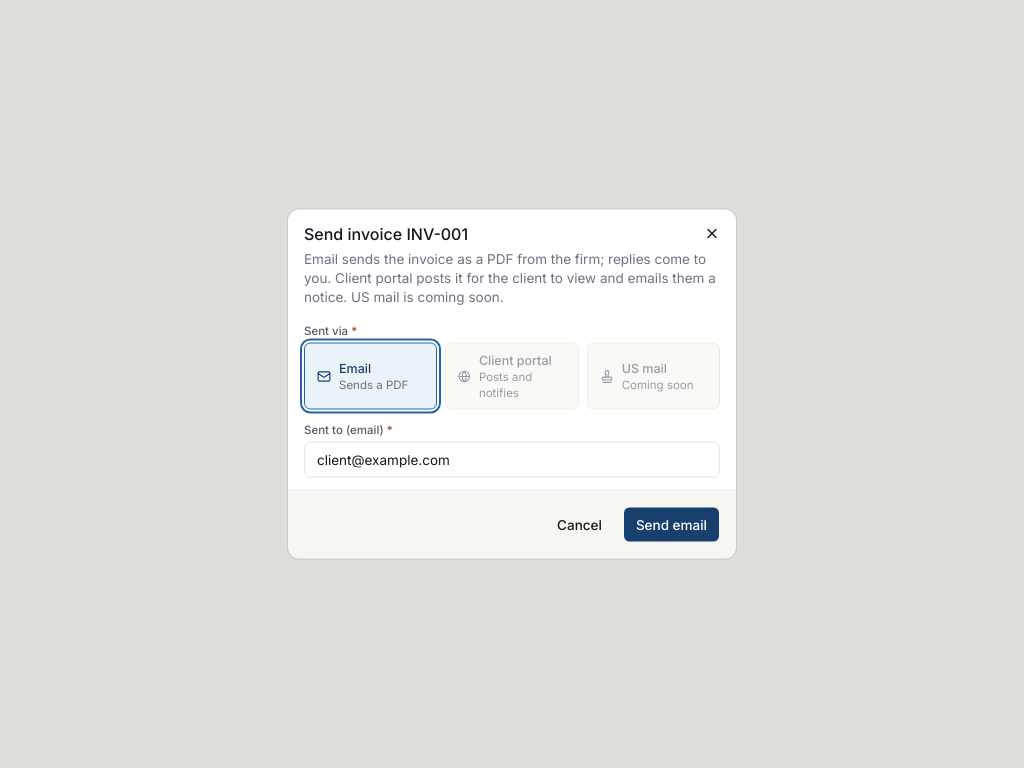
Test: SendInvoiceDialog › a server error is shown and the edited recipient survives
Type "other@example.com" into the field labelled "Sent to (email) *" at (512, 460), box 304,442 -> 720,478
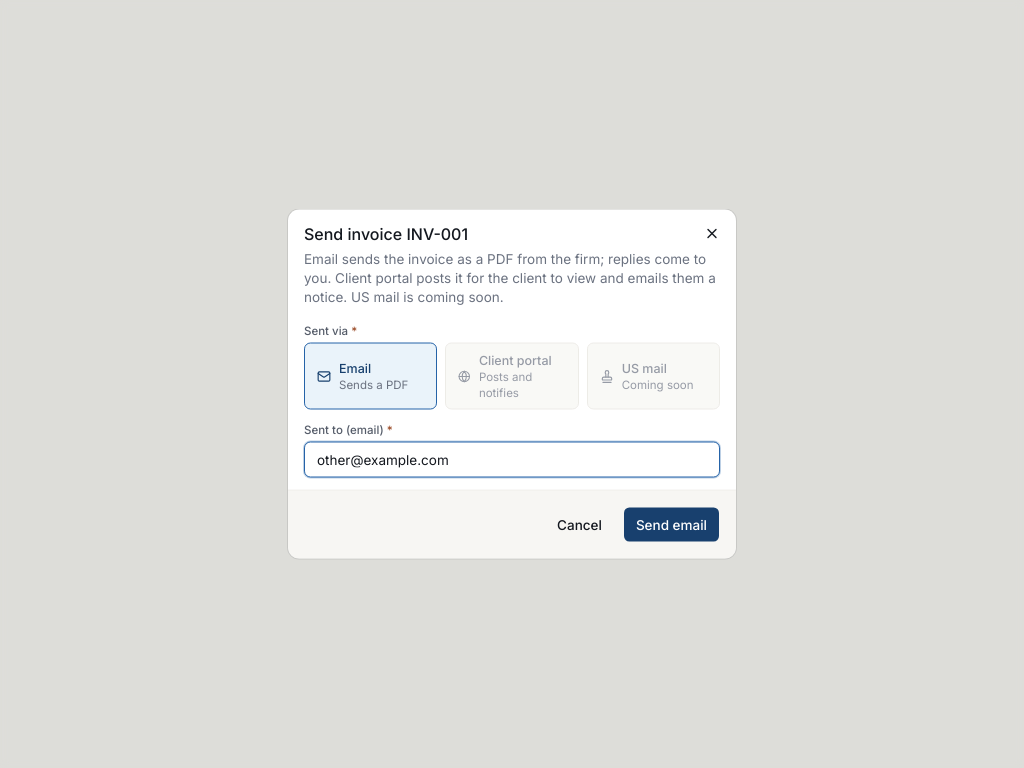
Click the button "Send email" at (671, 524), box 623,506 -> 720,542
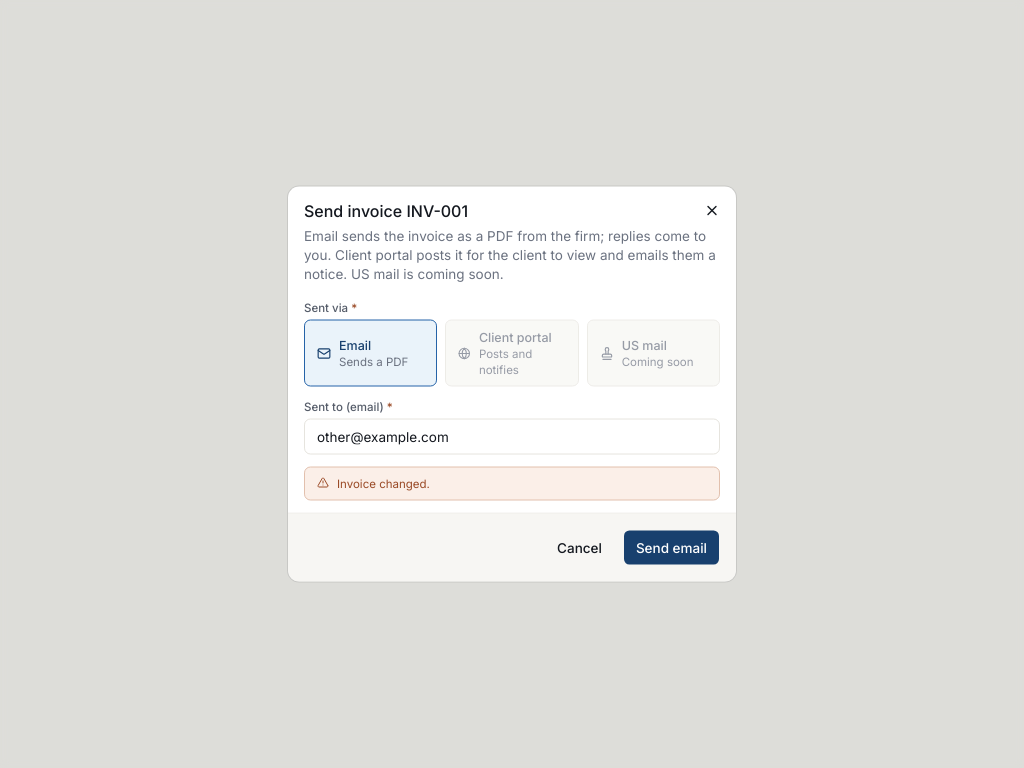
Now the text "Invoice changed." is shown, box 337,476 -> 430,492
